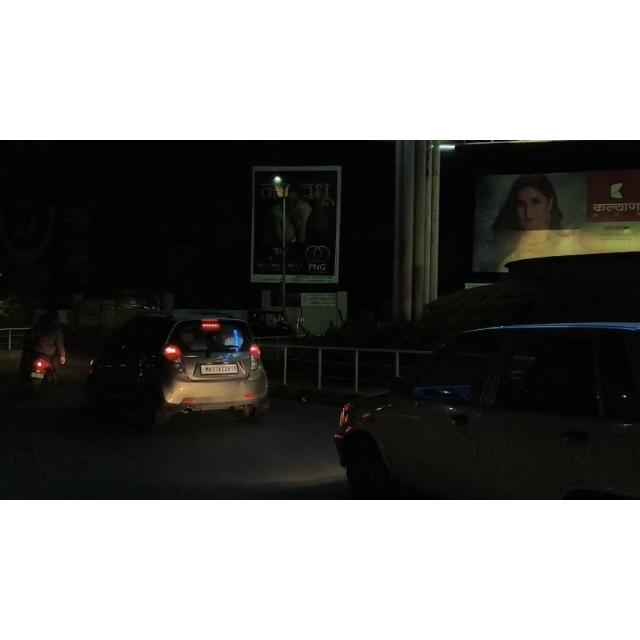car: (330, 294, 640, 501), (79, 305, 289, 432)
